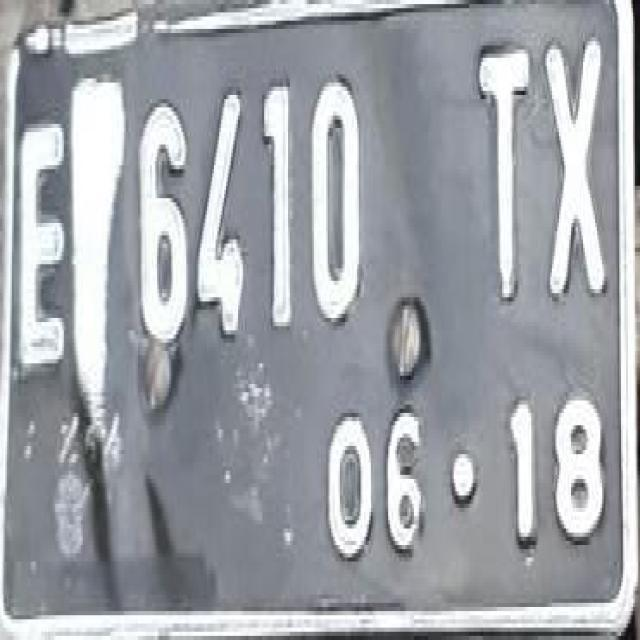0: (304, 52, 368, 344)
1: (254, 52, 306, 340)
4: (194, 54, 254, 347)
6: (132, 50, 194, 352)
E: (16, 101, 68, 378)
T: (474, 21, 538, 322)
X: (539, 18, 612, 316)
